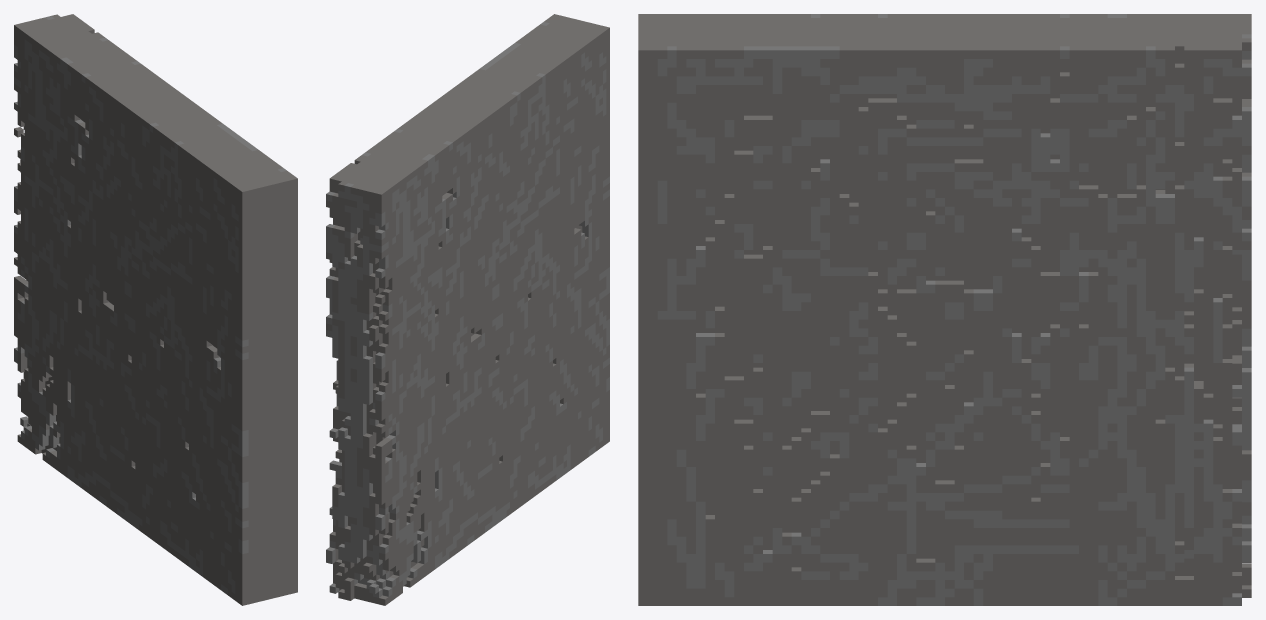
The model's file is Tutorialmap_V2_unfinished-28.obj.
The picture shows the model from 3 angles, left to right: view 1: azimuth 30°, elevation 25°; view 2: azimuth 150°, elevation 25°; view 3: azimuth 270°, elevation 25°; orthographic projection. The views are drawn at different scales.
Bounding box in the file's own units: 0.9 × 6.4 × 6.4.
Materials: 1 (1 with a texture image).
